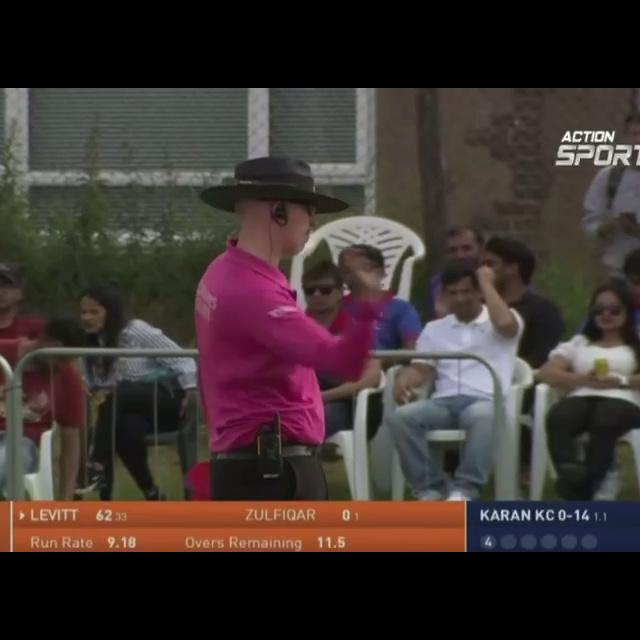umpire: (90, 127, 453, 503)
